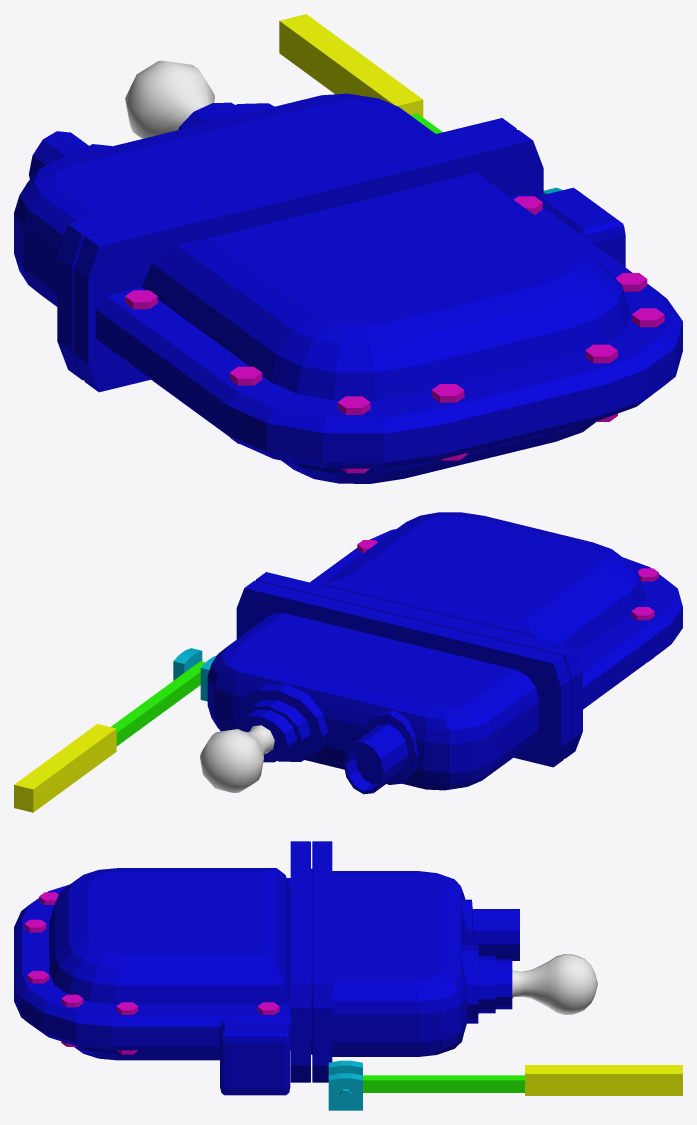
The model's file is PainelEnergia.fbx.
3 views of the same model, one above another, from view 1: azimuth 30°, elevation 25°; view 2: azimuth 150°, elevation 25°; view 3: azimuth 270°, elevation 25° (orthographic). The views are drawn at different scales.
Visible parts, largest first — view 1: Estrutura, Alavanca, Lampada; view 2: Estrutura, Alavanca, Lampada; view 3: Estrutura, Alavanca, Lampada.
Boxes of the visible parts, x1=… form: Estrutura: x1=14, y1=93, x2=682, y2=483; Alavanca: x1=279, y1=14, x2=442, y2=133; Lampada: x1=125, y1=60, x2=214, y2=138; Estrutura: x1=173, y1=512, x2=682, y2=794; Alavanca: x1=14, y1=661, x2=205, y2=812; Lampada: x1=200, y1=725, x2=274, y2=792; Estrutura: x1=14, y1=841, x2=519, y2=1110; Alavanca: x1=363, y1=1065, x2=682, y2=1095; Lampada: x1=512, y1=954, x2=597, y2=1014.
Size of the model in its own units: 257 by 71.29 by 418.
